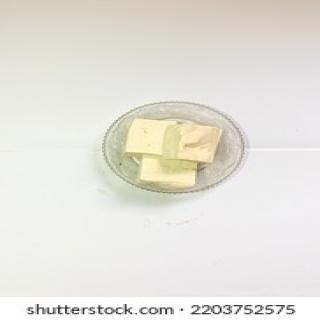Tahu: (112, 112, 230, 193)
